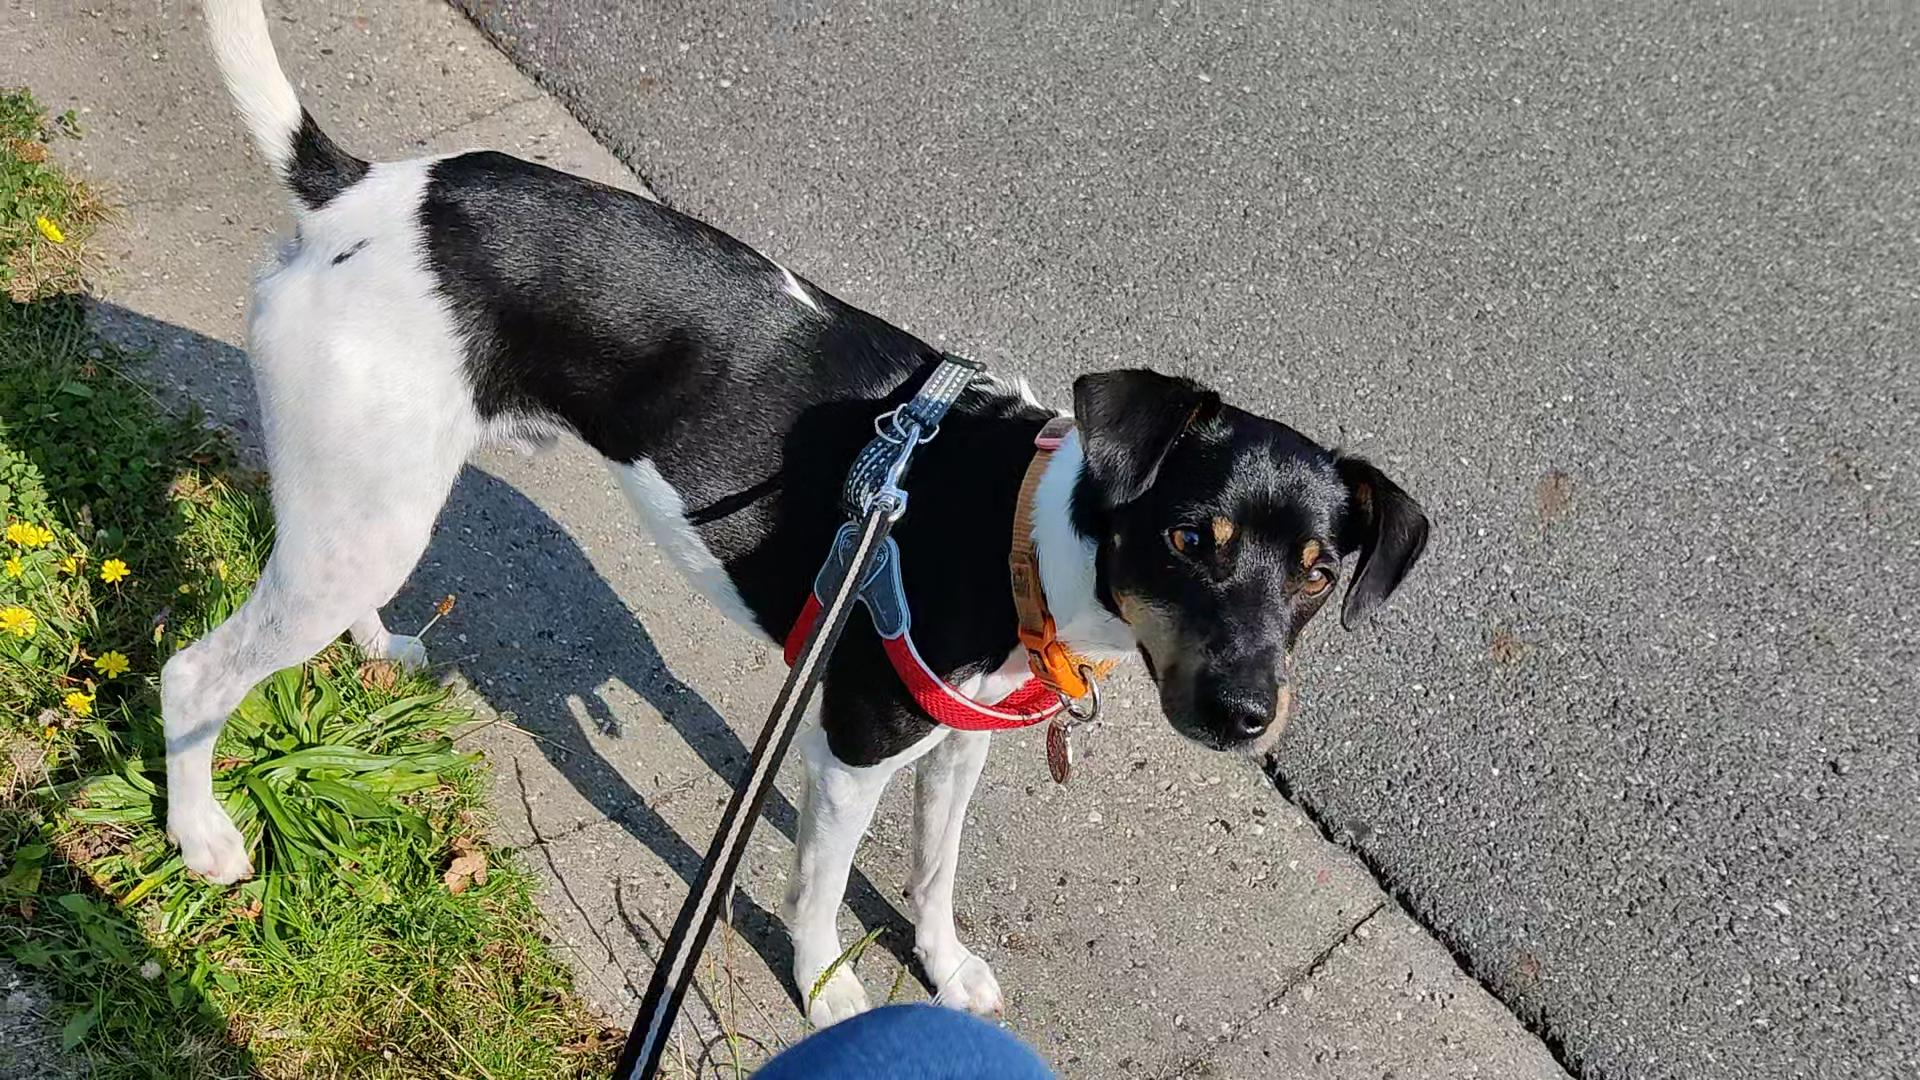Dog: (146, 0, 1437, 1030)
